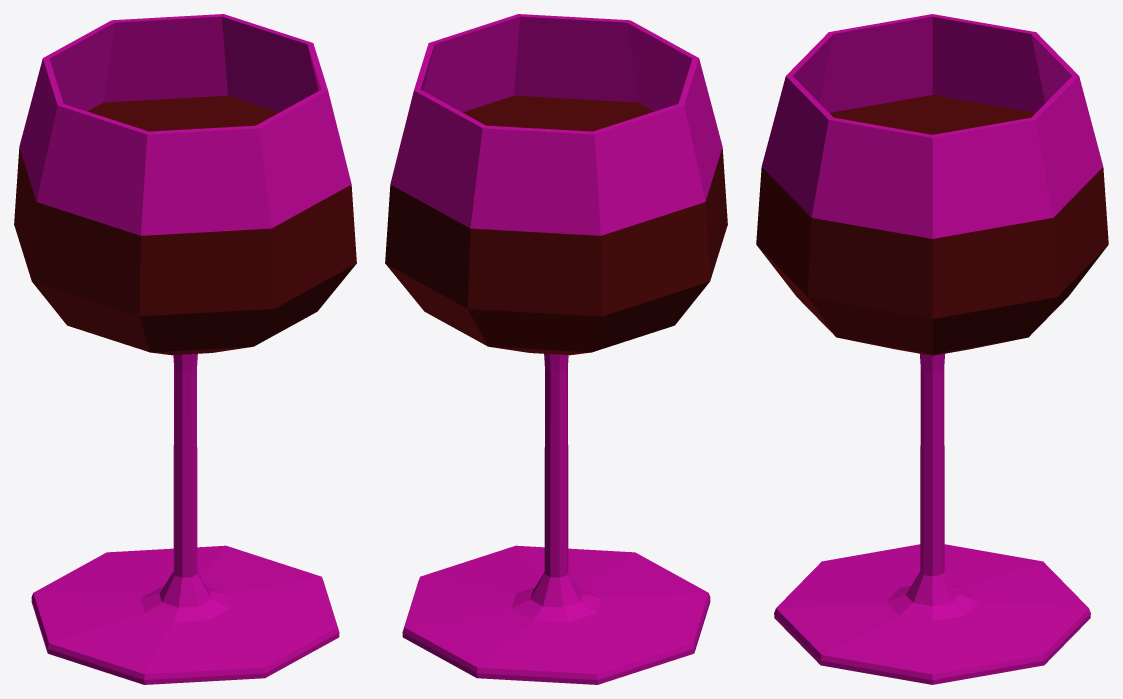
The model's file is GlassOfWine_01.fbx.
3 renders of one model, left to right at view 1: azimuth 30°, elevation 25°; view 2: azimuth 150°, elevation 25°; view 3: azimuth 270°, elevation 25°, orthographic.
Visible parts, largest first — view 1: GlassOfWine_01; view 2: GlassOfWine_01; view 3: GlassOfWine_01.
Boxes of the visible parts, x1,y1,x2,y2 form: GlassOfWine_01: (14,14,356,684); GlassOfWine_01: (385,14,727,684); GlassOfWine_01: (756,14,1108,684).
Bounding box in the file's own units: 3.07 × 5.21 × 3.07.
